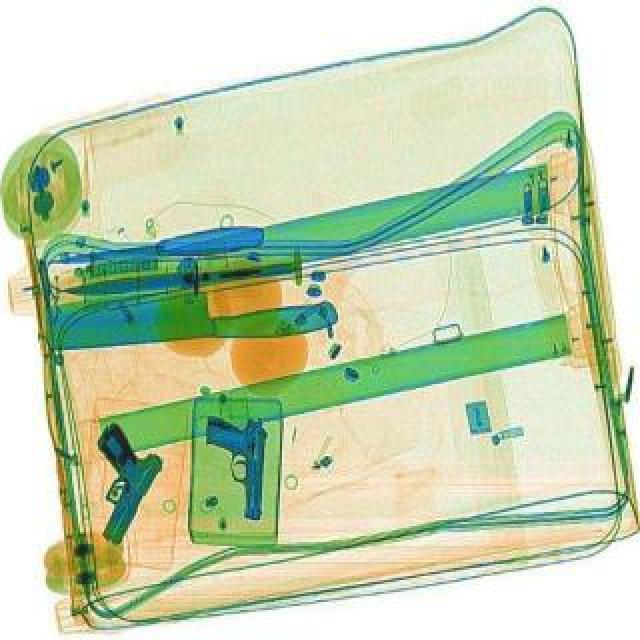gun: (56, 416, 172, 544), (206, 414, 266, 520)
knife: (42, 274, 338, 352), (42, 222, 264, 270), (56, 258, 296, 296)
